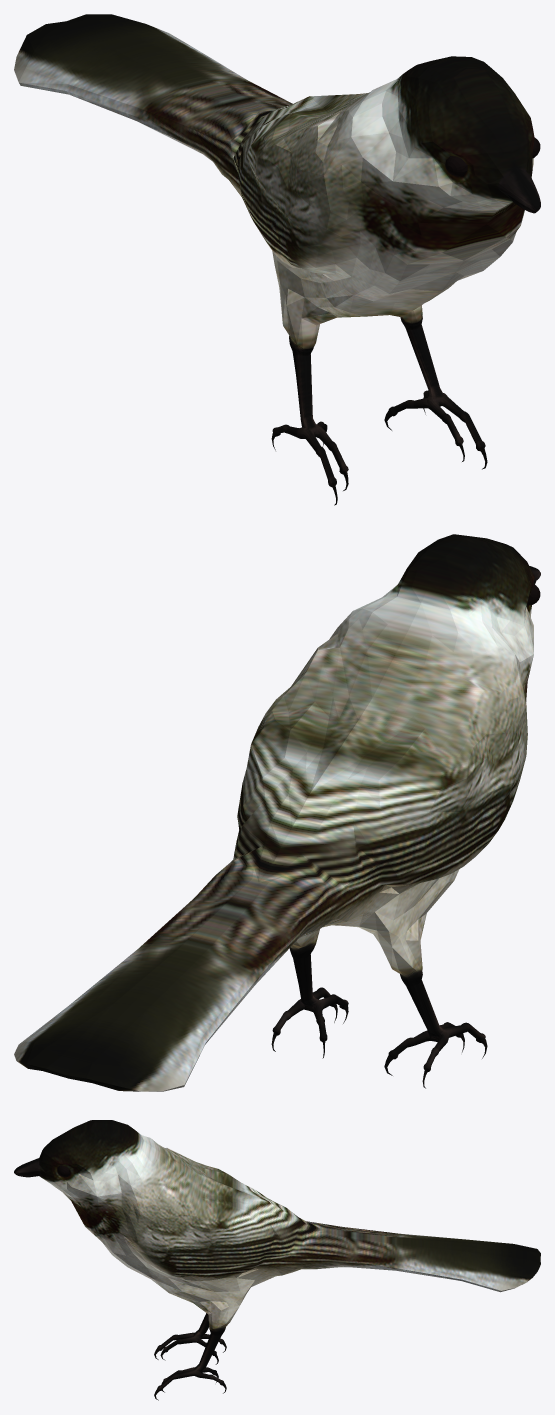
File: bird.obj
The picture shows the model from 3 angles, top to bottom: view 1: azimuth 30°, elevation 25°; view 2: azimuth 150°, elevation 25°; view 3: azimuth 270°, elevation 25°; orthographic projection. The views are drawn at different scales.
Visible parts, largest first — view 1: chickdee; view 2: chickdee; view 3: chickdee.
Part boxes in pixels (x1,y1,x2,y2): chickdee: [14, 14, 540, 505]; chickdee: [14, 534, 540, 1091]; chickdee: [14, 1120, 540, 1400].
Size of the model in its own units: 0.558 by 1.1 by 2.04.
Materials: 2 (1 with a texture image).
